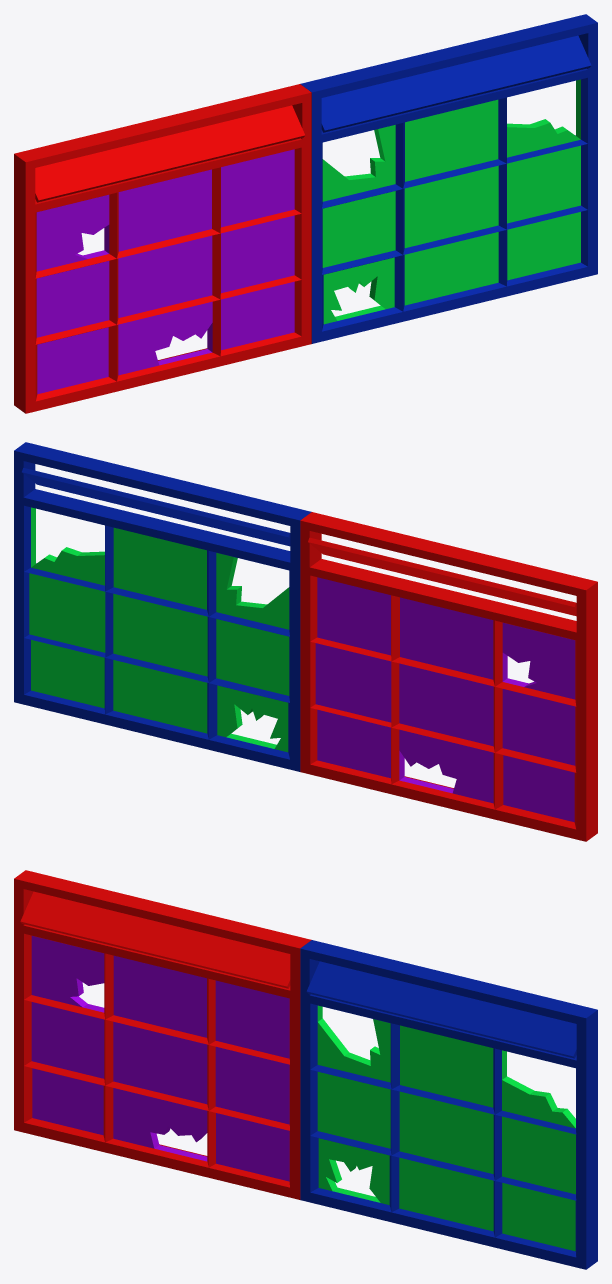
File: JanelaQuebradaRECEP.fbx
The picture shows the model from 3 angles, top to bottom: view 1: azimuth 30°, elevation 25°; view 2: azimuth 150°, elevation 25°; view 3: azimuth 330°, elevation 25°; orthographic projection.
Visible parts, largest first — view 1: pCube2, pCube1; view 2: pCube2, pCube1; view 3: pCube2, pCube1.
Boxes of the visible parts, left/top/right/bottom form: pCube2: left=14, top=84, right=311, bottom=413; pCube1: left=300, top=14, right=597, bottom=343; pCube2: left=300, top=512, right=597, bottom=841; pCube1: left=14, top=442, right=311, bottom=771; pCube2: left=14, top=870, right=311, bottom=1199; pCube1: left=300, top=940, right=597, bottom=1269.
Bounding box in the file's own units: 4.27 × 1.79 × 0.2188.
